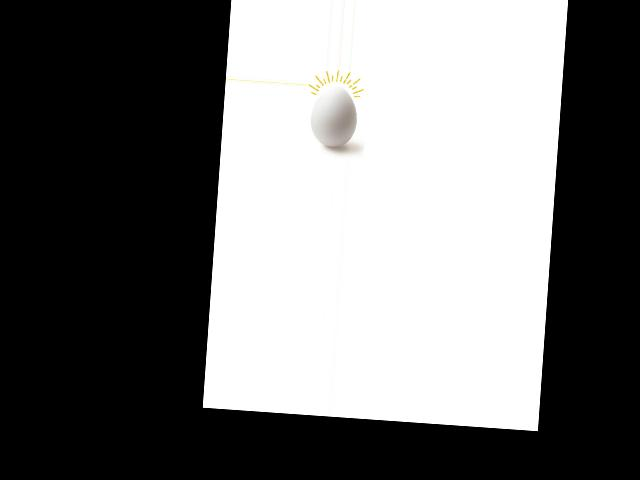egg: (308, 85, 358, 148)
